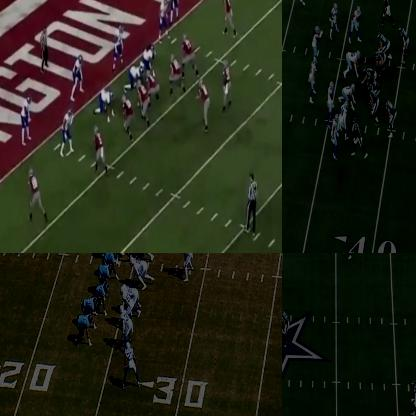CENTER: (146, 68, 157, 102), (360, 65, 374, 89)
DB: (18, 98, 30, 147), (126, 338, 137, 382), (331, 115, 339, 161), (331, 1, 340, 36), (121, 304, 132, 332), (171, 0, 182, 18), (411, 384, 415, 415), (343, 253, 352, 259)
LB: (156, 0, 170, 41), (62, 109, 75, 151), (71, 54, 81, 98), (112, 34, 123, 67), (282, 309, 291, 348), (179, 253, 192, 279), (312, 25, 322, 56), (309, 59, 316, 102), (121, 290, 135, 308), (327, 80, 334, 114)
QB: (199, 80, 211, 130)
SKILL: (30, 169, 44, 217), (82, 294, 98, 329), (93, 129, 106, 166), (224, 0, 236, 39), (96, 281, 108, 318), (76, 315, 89, 346), (223, 62, 232, 104), (398, 26, 408, 63), (385, 97, 394, 134), (383, 0, 395, 24)
